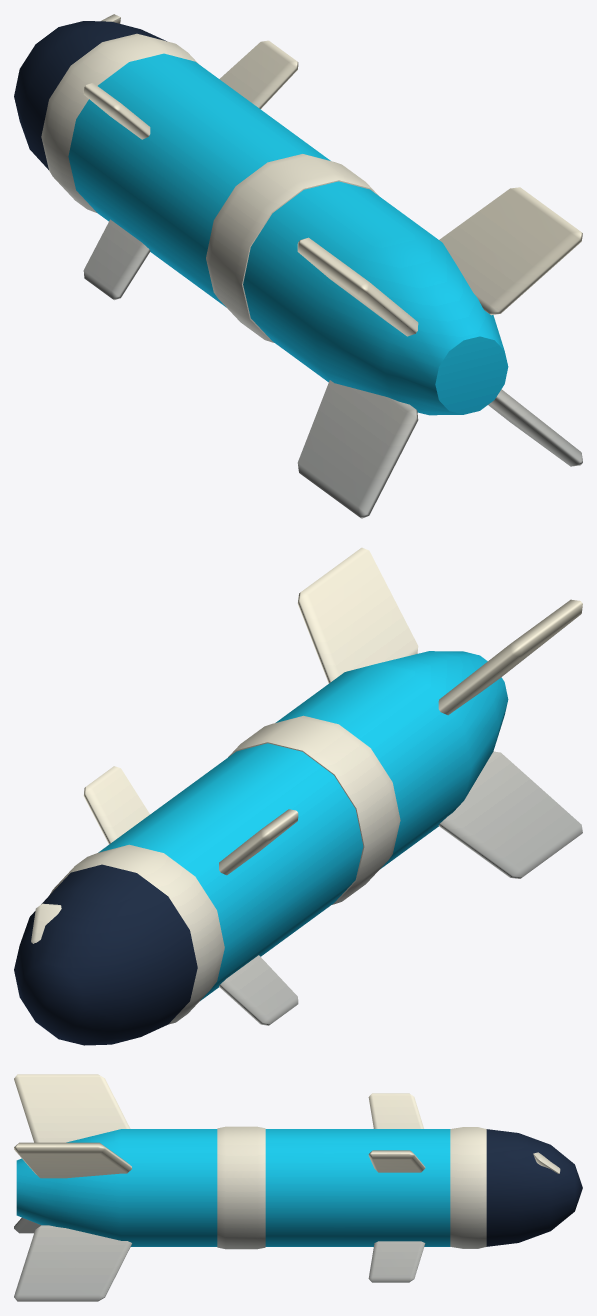
The model's file is bomb-guided.glb.
The picture shows the model from 3 angles, top to bottom: view 1: azimuth 30°, elevation 25°; view 2: azimuth 150°, elevation 25°; view 3: azimuth 270°, elevation 25°; orthographic projection. The views are drawn at different scales.
Parts seen in each view (by area): view 1: bomb-guided Lance cyan, bomb-guided Warm white, bomb-guided Seeker glass; view 2: bomb-guided Lance cyan, bomb-guided Warm white, bomb-guided Seeker glass; view 3: bomb-guided Lance cyan, bomb-guided Warm white, bomb-guided Seeker glass.
Boxes of the visible parts, x1,y1,x2,y2 form: bomb-guided Lance cyan: [68, 53, 508, 415]; bomb-guided Warm white: [41, 14, 582, 518]; bomb-guided Seeker glass: [14, 21, 166, 169]; bomb-guided Lance cyan: [98, 651, 508, 1000]; bomb-guided Warm white: [31, 547, 582, 1025]; bomb-guided Seeker glass: [14, 864, 197, 1045]; bomb-guided Lance cyan: [16, 1129, 450, 1246]; bomb-guided Warm white: [14, 1074, 560, 1301]; bomb-guided Seeker glass: [486, 1129, 582, 1246].
Size of the model in its own units: 0.4285 by 0.4285 by 1.42.
Materials: 3 (3 with a texture image).
